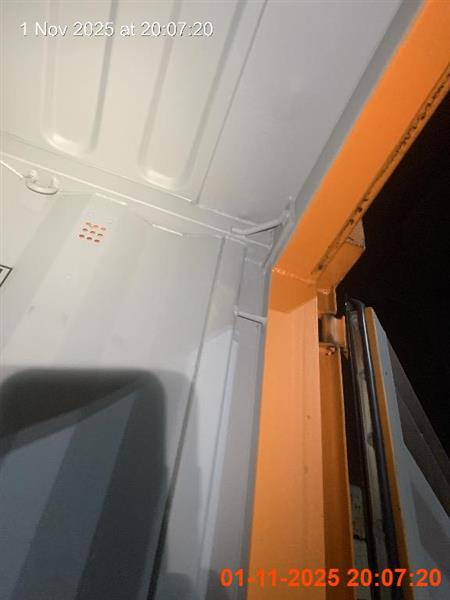broken: (0, 367, 169, 599)
